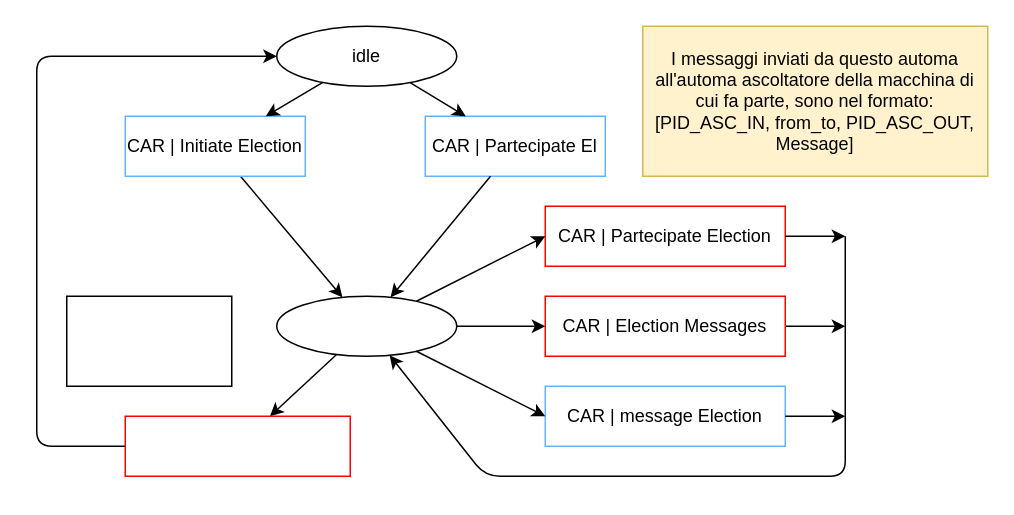
This 1014x515 diagram has some shape labels left out. The centre of each missing label's shape, as x and y in pixels:
CAR | Election Results: the point at 237,445
Risultati: Perso Vinto + percorso: the point at 148,340
Running Election: the point at 366,325
